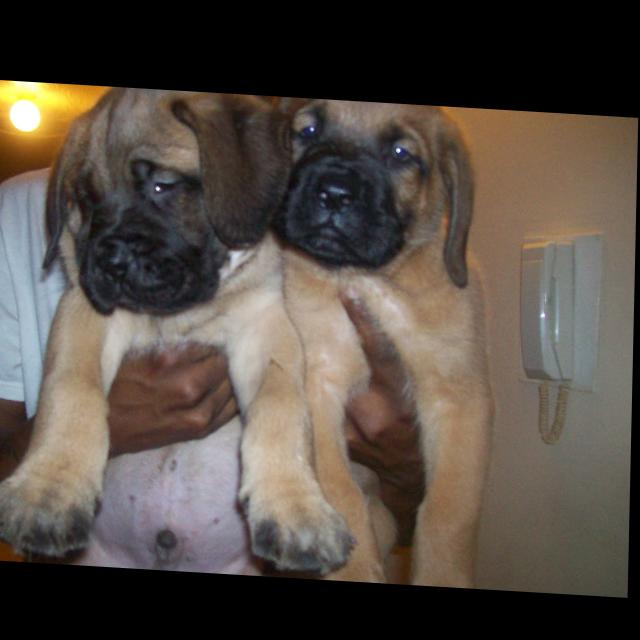mastiff: (1, 81, 362, 578), (267, 94, 504, 584)
